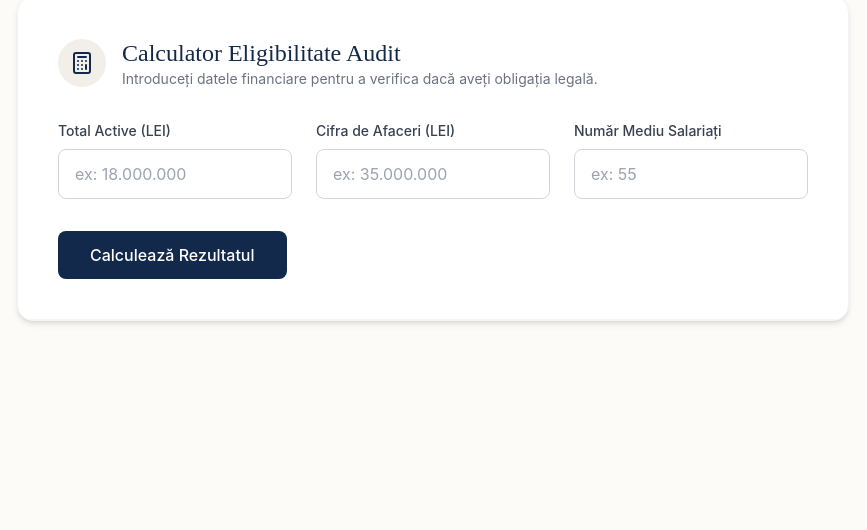
Scenario: AuditCalculator component › shows not required result when fewer than 2 criteria met
In the field with placeholder "ex: 18.000.000": point(175, 174) [58, 149, 292, 199], type "1000000"
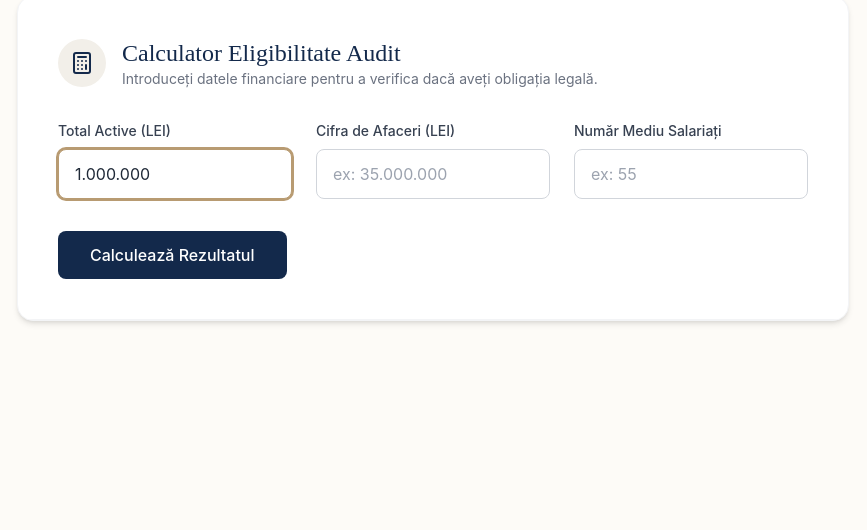
In the field with placeholder "ex: 35.000.000": point(433, 174) [316, 149, 550, 199], type "1000000"
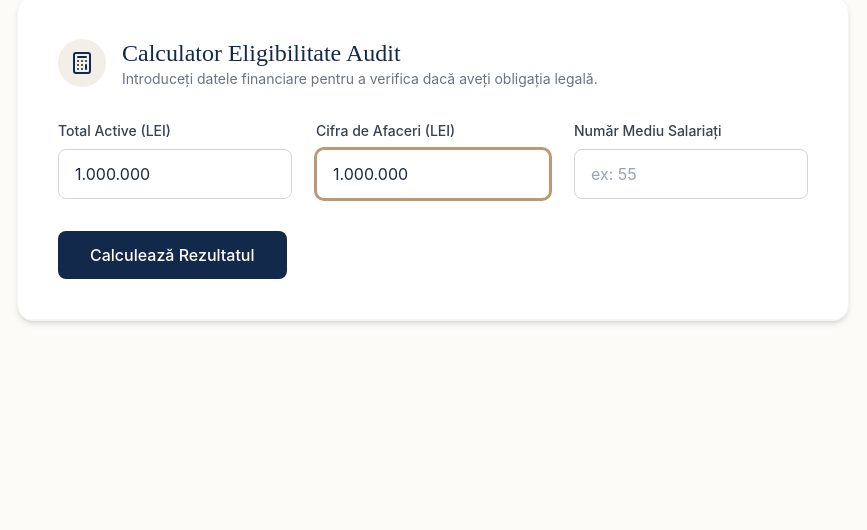
In the field with placeholder "ex: 55": point(691, 174) [574, 149, 808, 199], type "10"
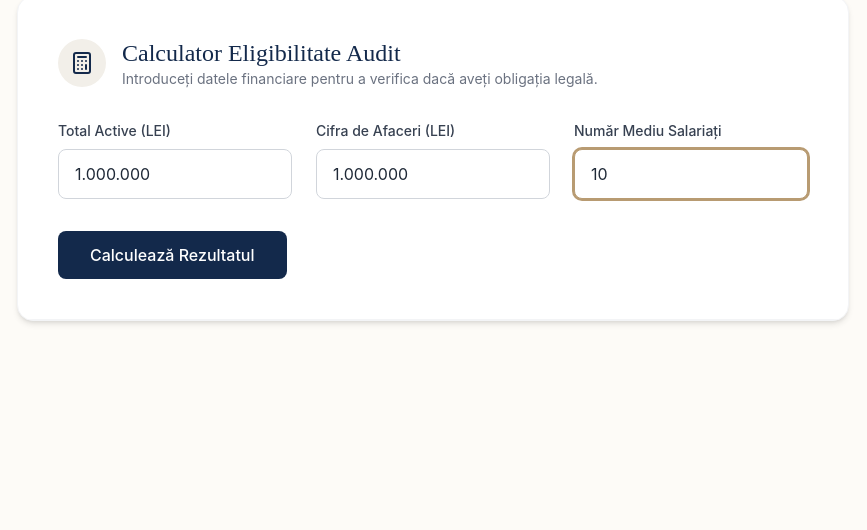
Click the button "Calculează Rezultatul": point(172, 255) [58, 231, 286, 279]
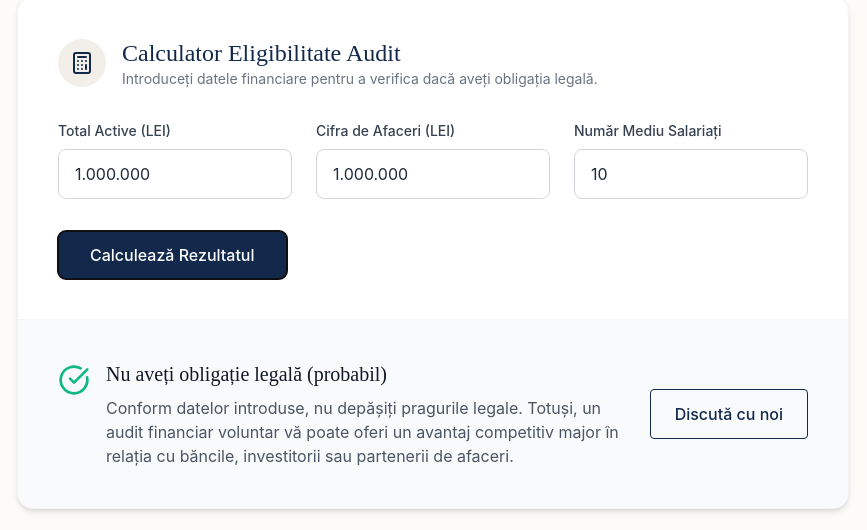
Expected: the heading "Nu aveți obligație legală (probabil)" is shown, [106, 363, 387, 385]
